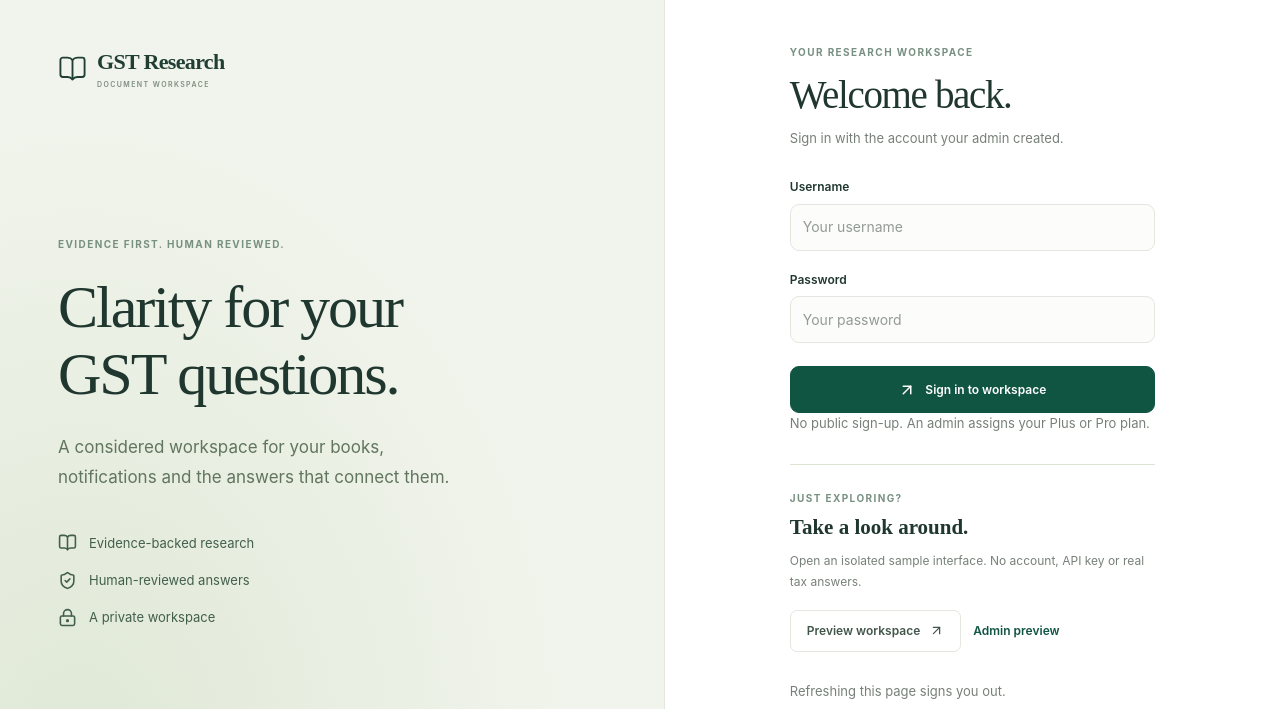
Scenario: User workspace › filters conversation history and handles an empty result
The image size is (1280, 709).
Click the button "Preview workspace" at (876, 631), box [790,610,961,652]
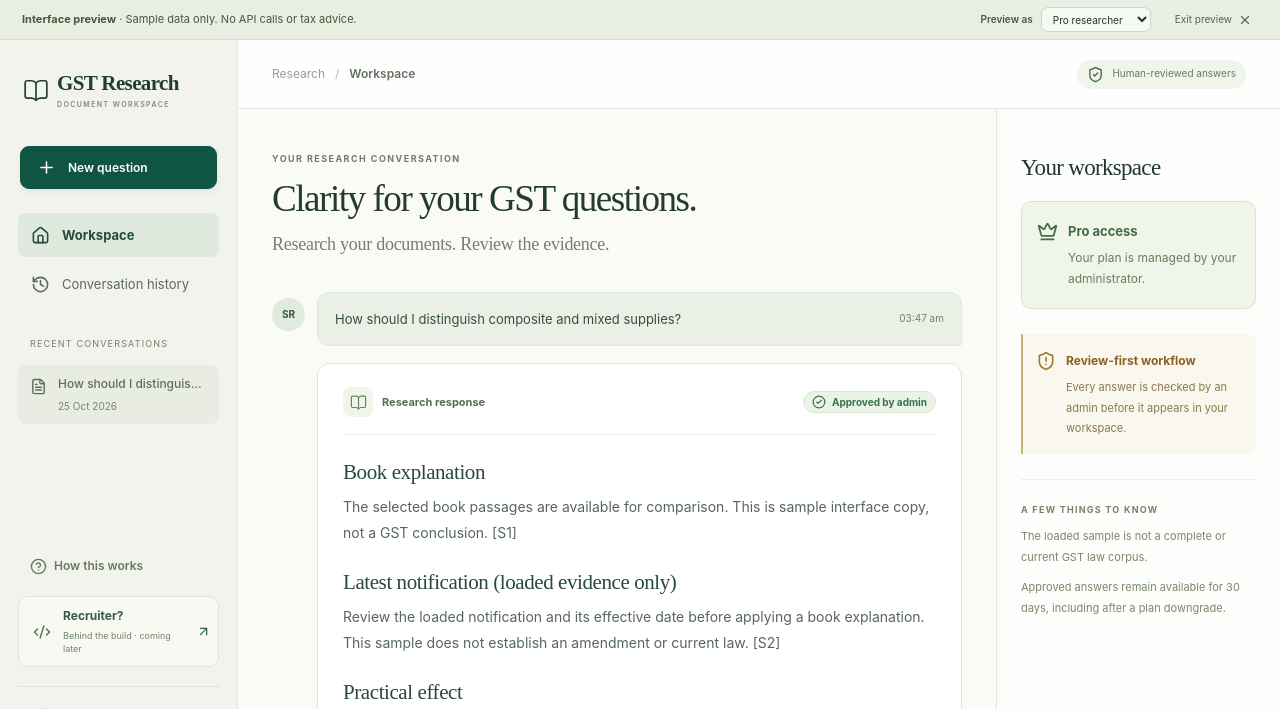
expect the text "Sample data only. No API calls" is shown: met, box [116,12,357,26]
Click the button "Conversation history" at (118, 284), box [18,262,219,306]
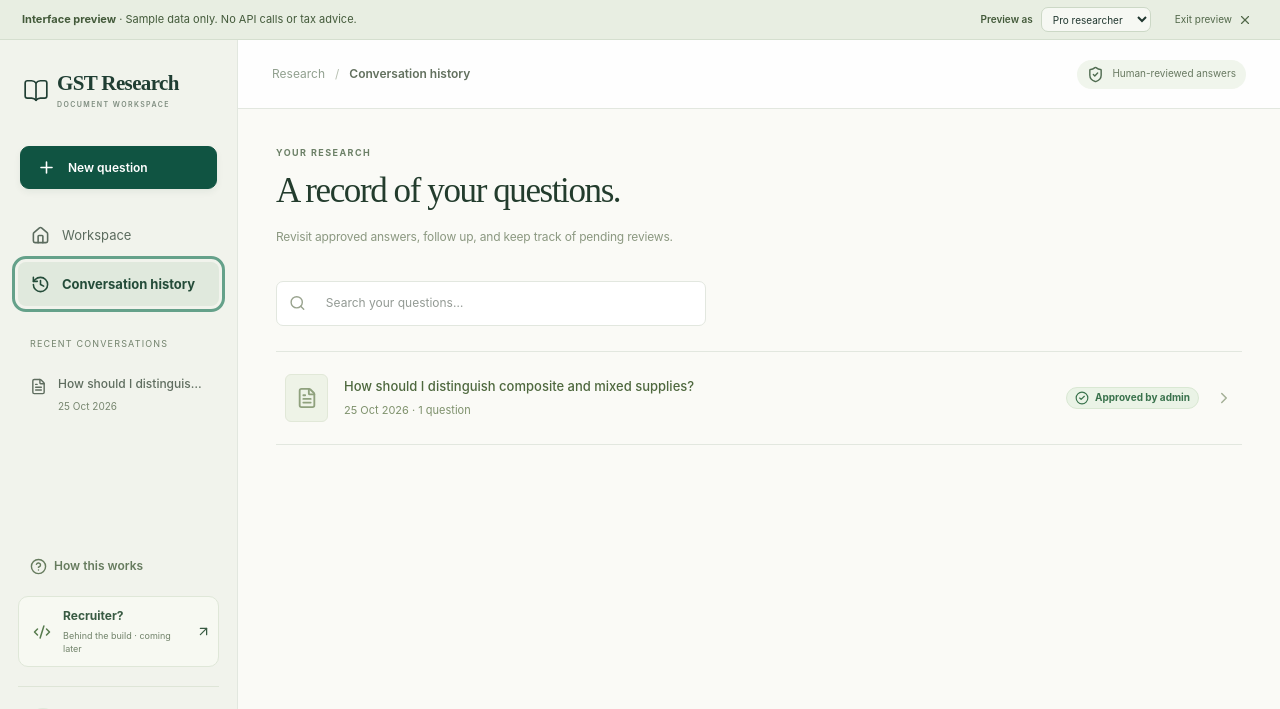
Type "no-such-question" into the field named "Search conversations" at (503, 303), box [314,284,693,323]
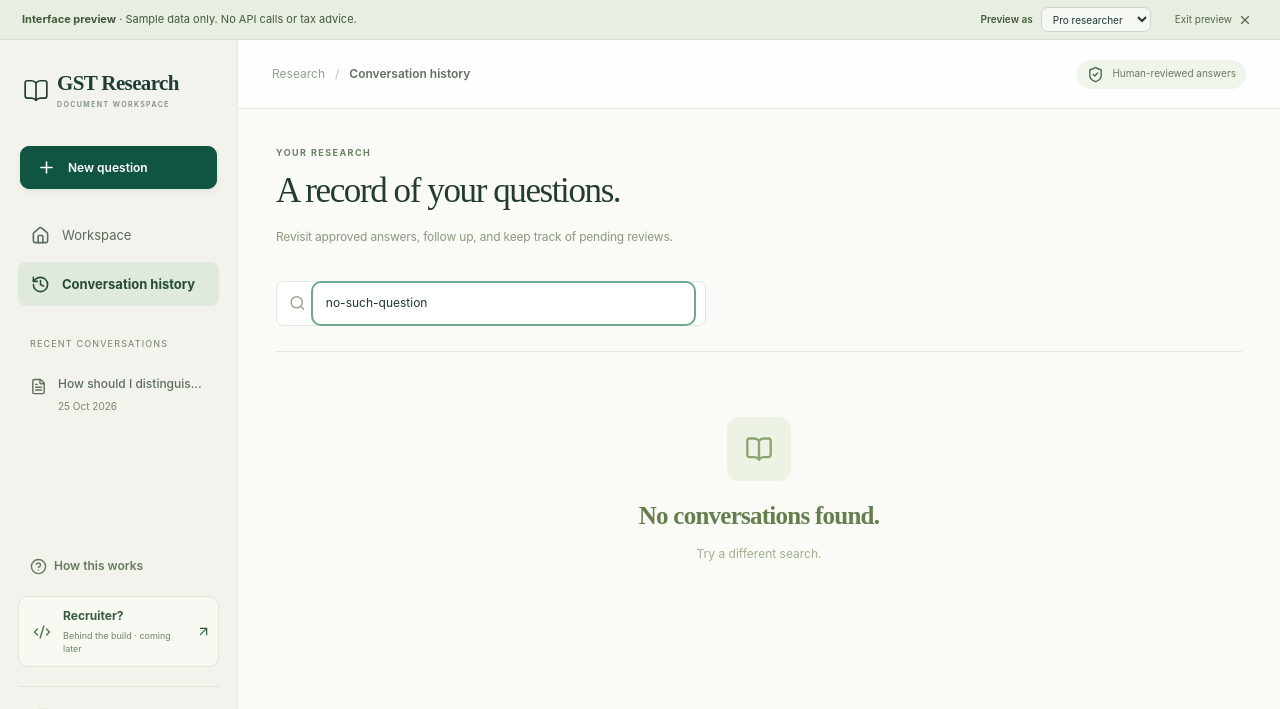
expect the heading "No conversations found." is shown: met, box [639,502,879,529]
